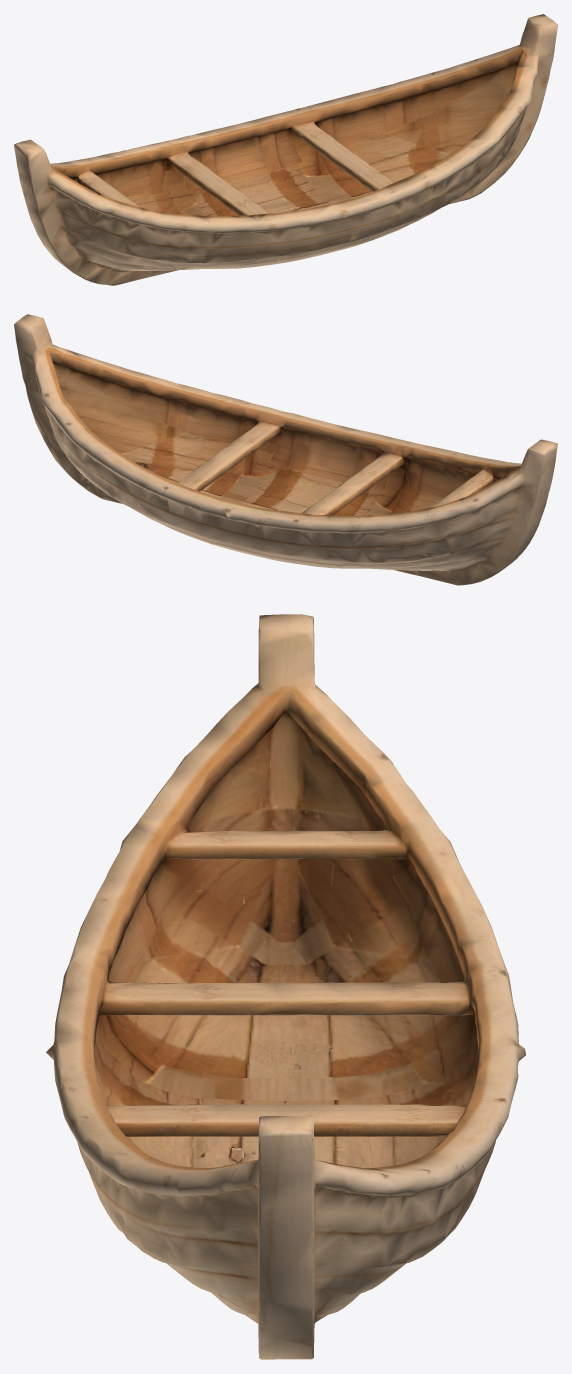
The model's file is floss_holz_original.glb.
The picture shows the model from 3 angles, top to bottom: view 1: azimuth 30°, elevation 25°; view 2: azimuth 150°, elevation 25°; view 3: azimuth 270°, elevation 25°; orthographic projection. The views are drawn at different scales.
Size of the model in its own units: 1.92 by 0.5323 by 0.7507.
Materials: 1 (1 with a texture image).
